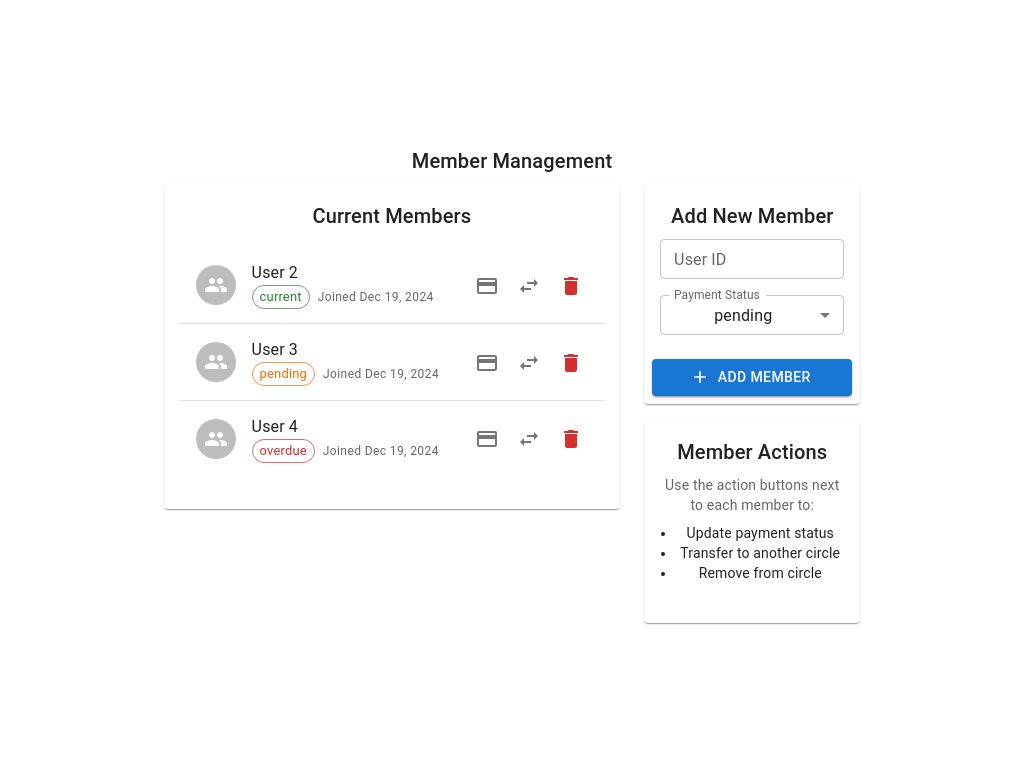
MemberManagementInterface › Transfer Member Functionality › should show transfer dialog with available circles
Step 1. Click the button named "transfer member" in the row of "User 2" → (529, 286), box x1=512 y1=269 x2=546 y2=303
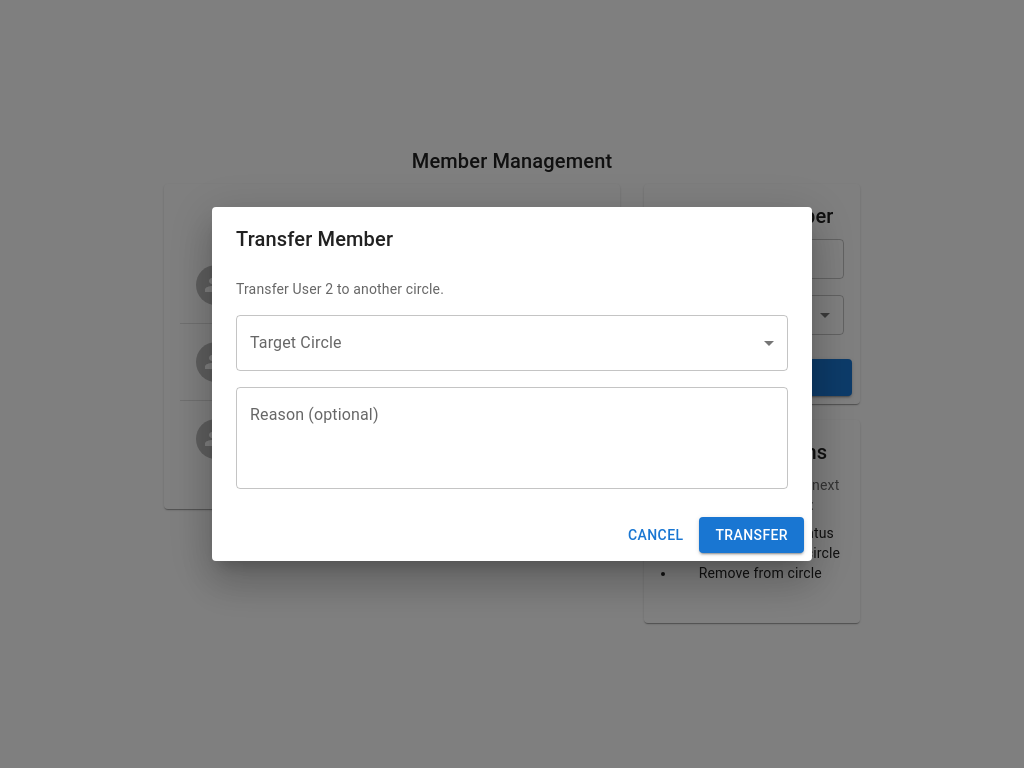
Now the heading "Transfer Member" is shown, box x1=236 y1=227 x2=393 y2=251
Now the dropdown is shown, box x1=236 y1=315 x2=788 y2=371
